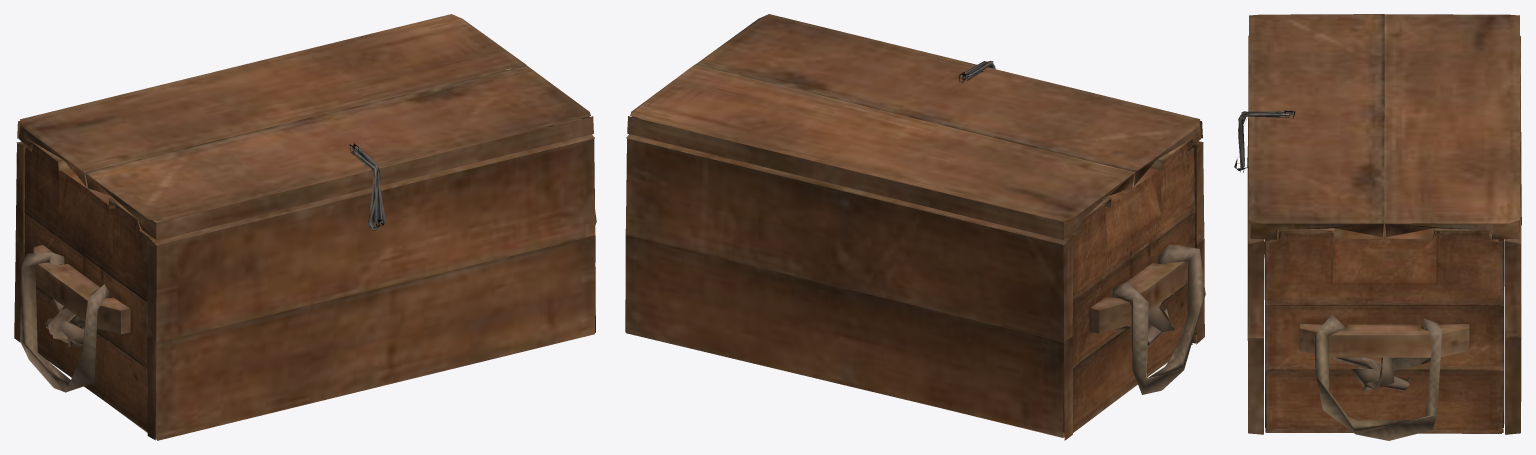
File: wooden_crate.glb
The picture shows the model from 3 angles, left to right: view 1: azimuth 30°, elevation 25°; view 2: azimuth 150°, elevation 25°; view 3: azimuth 270°, elevation 25°; orthographic projection. The views are drawn at different scales.
Visible parts, largest first — view 1: wooden_crate; view 2: wooden_crate; view 3: wooden_crate.
Part boxes in pixels (x1,y1,x2,y2): wooden_crate: (14, 14, 596, 440); wooden_crate: (625, 14, 1205, 440); wooden_crate: (1234, 14, 1521, 440).
Size of the model in its own units: 0.8222 by 0.3466 by 0.4075.
1 material, 1 textured.
